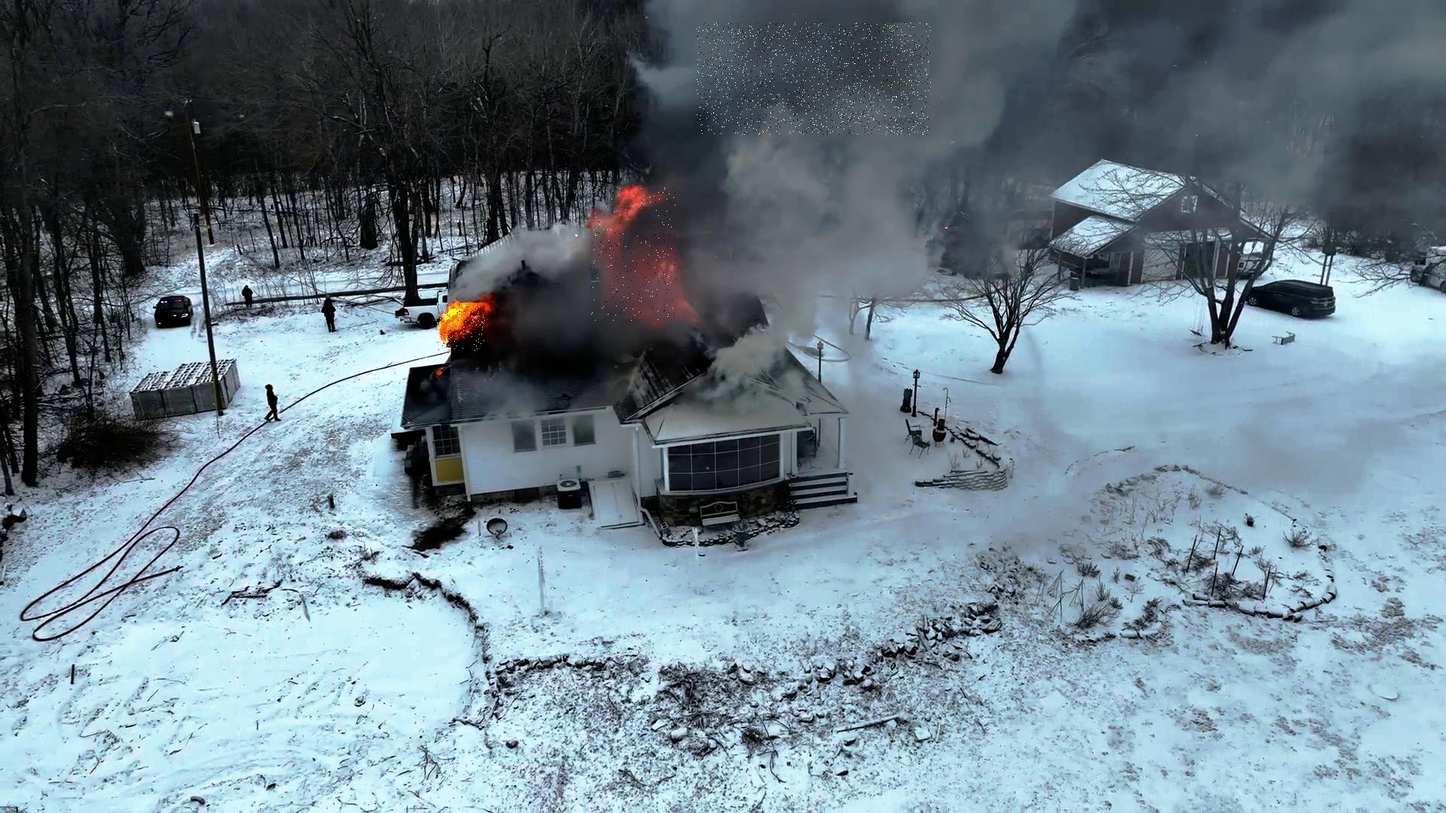fire: (592, 187, 677, 321), (437, 303, 486, 351)
smoke: (697, 23, 931, 135)
